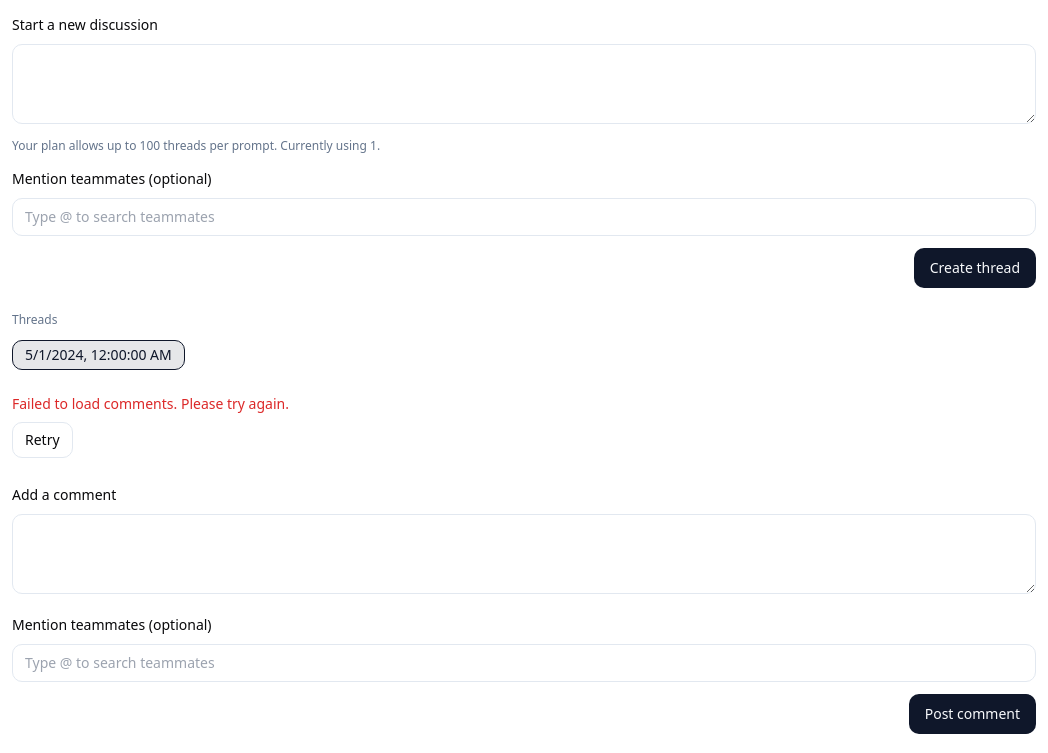
PromptCommentsPanel - pagination › allows retrying a failed comments fetch
Check: the text "Failed to load comments. Please try again." is shown, box 12,394 -> 289,413
Step 1. Click the button "Retry" → point(42, 440), box 12,422 -> 73,458
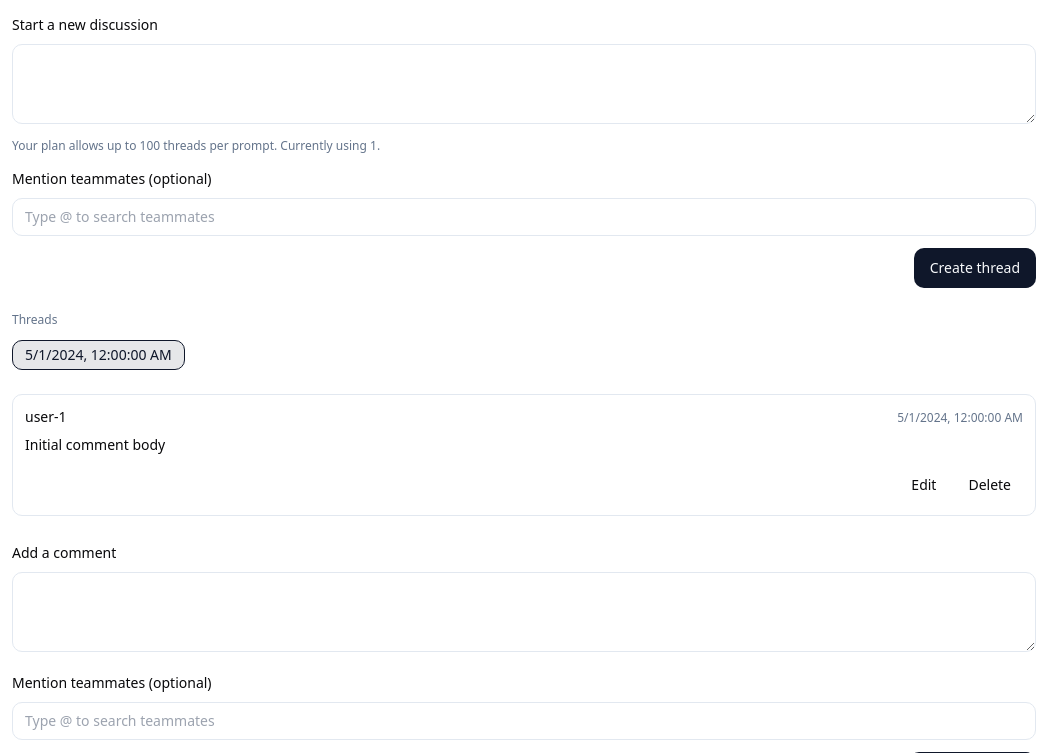
Check: the text "Initial comment body" is shown, box 25,435 -> 165,454
